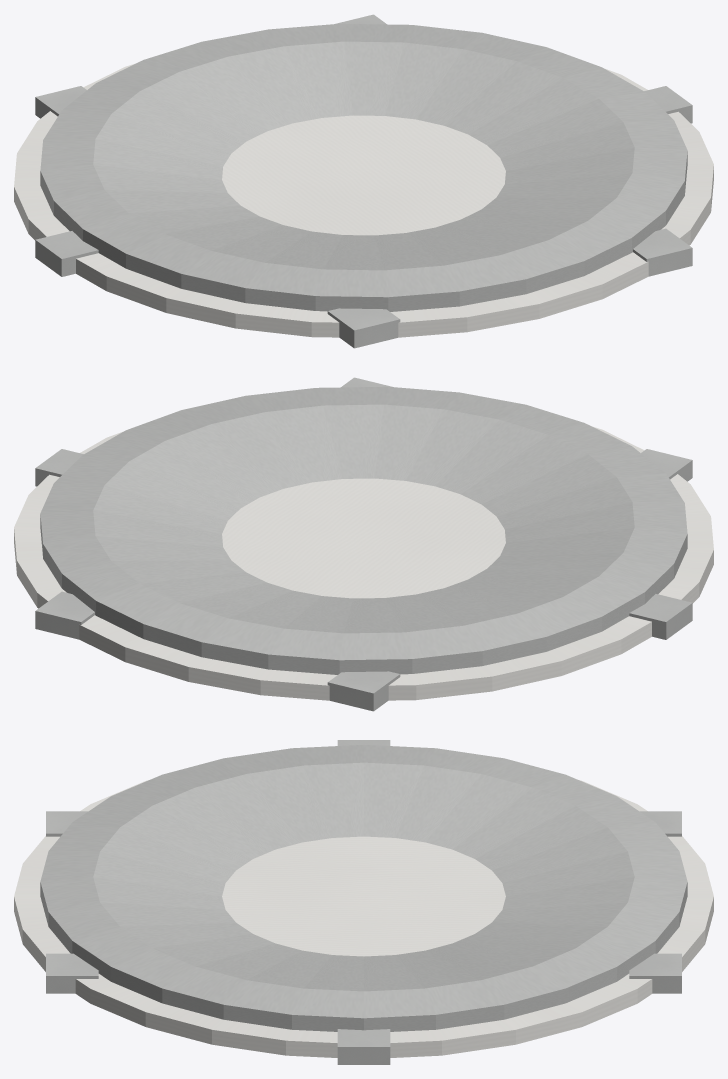
The model's file is socket.gltf.
3 renders of one model, top to bottom at view 1: azimuth 30°, elevation 25°; view 2: azimuth 150°, elevation 25°; view 3: azimuth 270°, elevation 25°, orthographic.
Parts seen in each view (by area): view 1: jx_socket; view 2: jx_socket; view 3: jx_socket.
Boxes of the visible parts, x1=… form: jx_socket: x1=14, y1=14, x2=713, y2=348; jx_socket: x1=14, y1=377, x2=713, y2=711; jx_socket: x1=14, y1=740, x2=713, y2=1064.
Bounding box in the file's own units: 2.2 × 0.115 × 2.12.
Materials: 2 (2 with a texture image).
